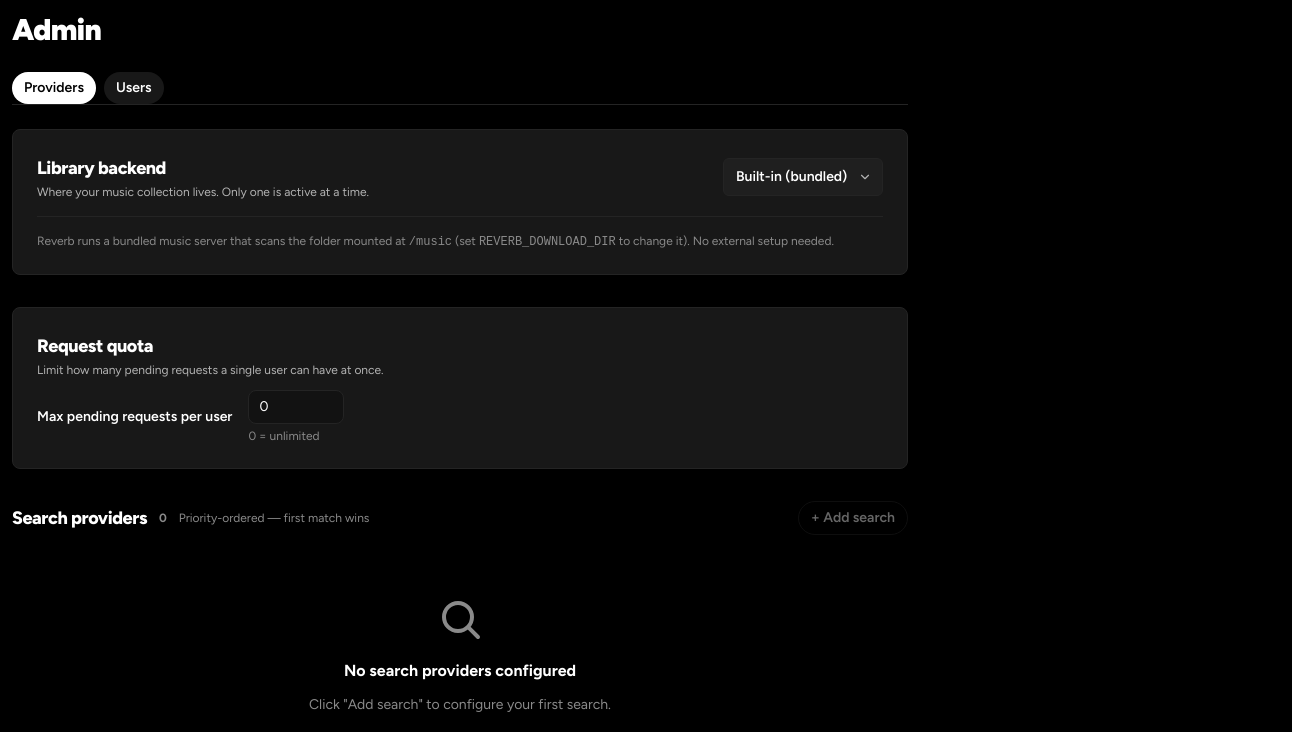
it: Admin › Users tab renders the real UsersSection with Users heading and Create user button
Click the button "Users" at x=134, y=88, box [104,72,164,104]
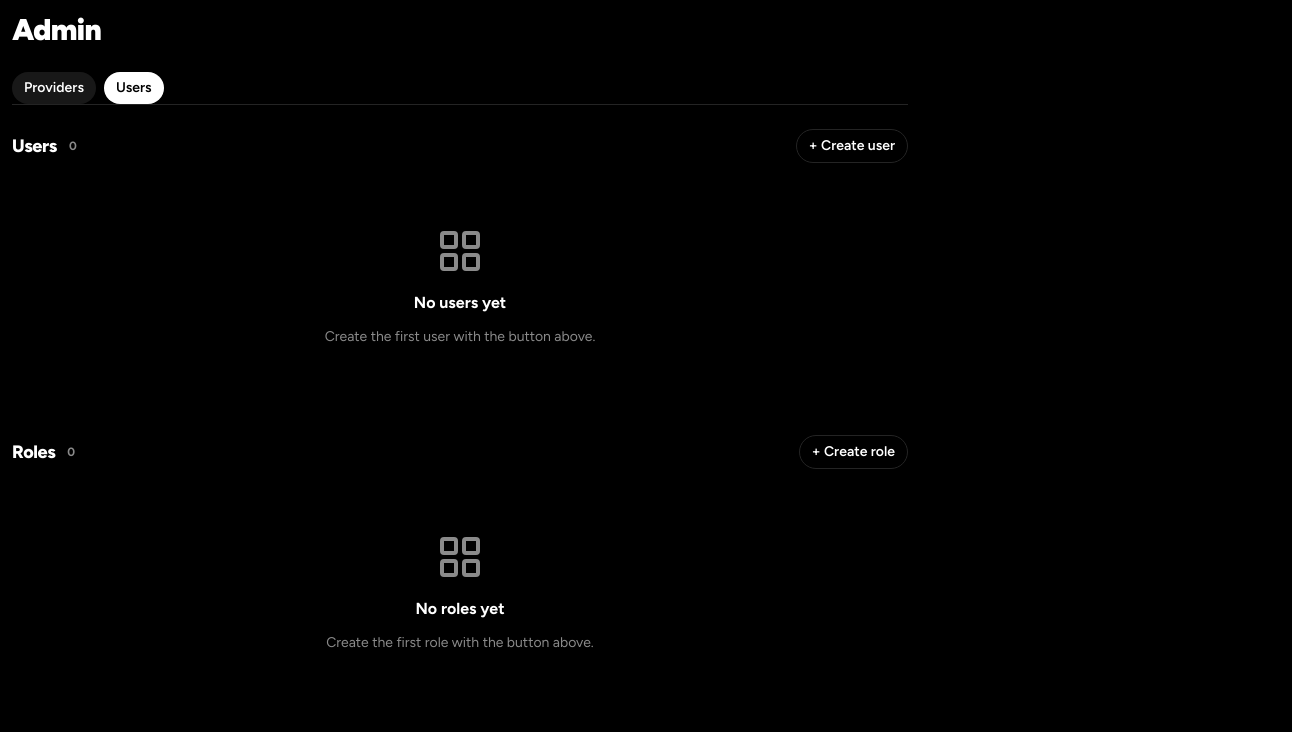
Expected: the heading "Users" is shown, [12,132,57,160]
Expected: the button "+ Create user" is shown, [796,129,908,163]
